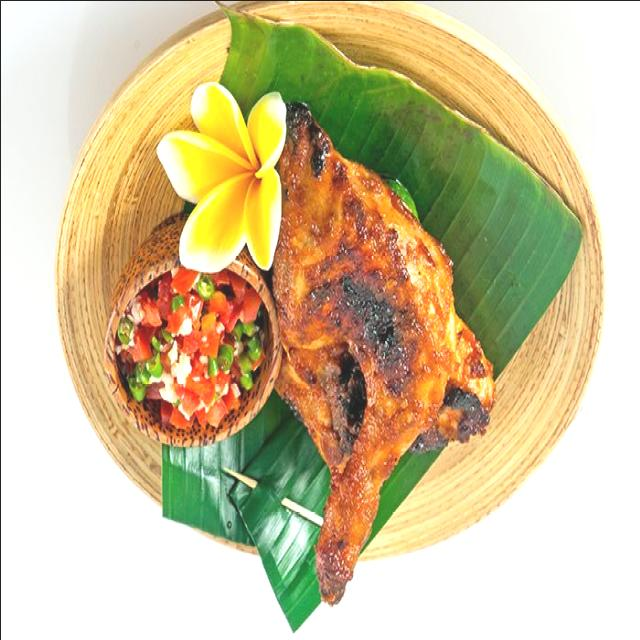ayam bakar: (272, 99, 457, 603)
